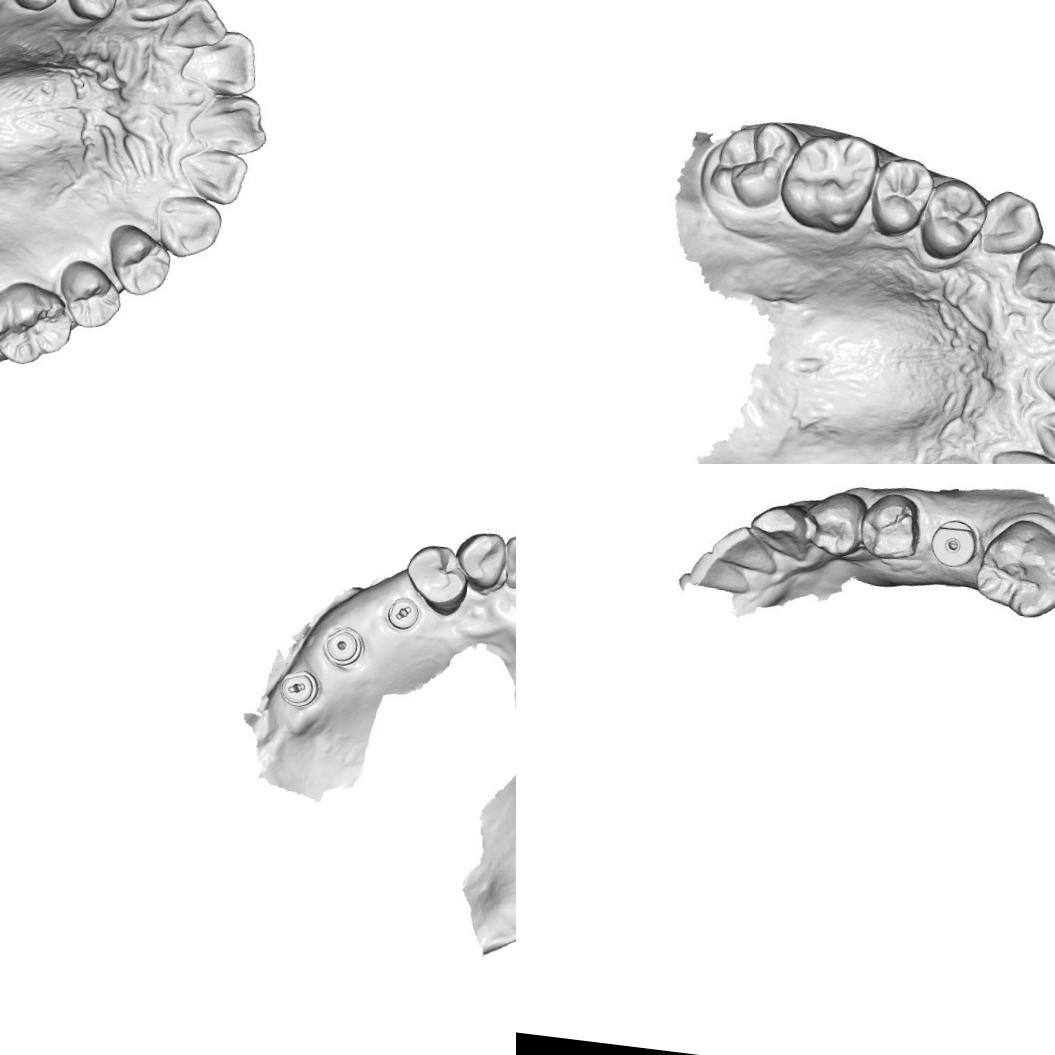canine: (975, 185, 1051, 262), (746, 497, 818, 568), (156, 192, 224, 262), (452, 526, 510, 593), (120, 0, 190, 28), (992, 447, 1055, 464)
implant: (928, 512, 978, 578), (318, 624, 368, 670)
implant_minus: (275, 666, 323, 710), (383, 594, 422, 634)
incisor: (187, 84, 274, 156), (180, 24, 258, 98), (682, 549, 762, 604), (706, 519, 780, 578), (156, 0, 229, 58), (180, 149, 248, 208), (1014, 238, 1055, 302), (1033, 402, 1055, 464), (1036, 271, 1055, 342), (498, 532, 516, 594)
molar: (778, 129, 882, 226), (971, 515, 1055, 624), (708, 116, 798, 202), (0, 272, 77, 371)
premolar: (99, 220, 176, 302), (917, 178, 983, 272), (867, 150, 931, 245), (400, 540, 476, 619), (55, 254, 122, 331), (802, 492, 866, 560), (860, 492, 920, 559), (67, 0, 125, 23), (4, 0, 75, 17)
